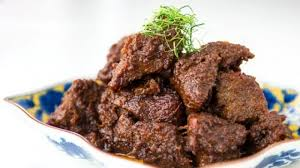rendang: (44, 6, 300, 164)
